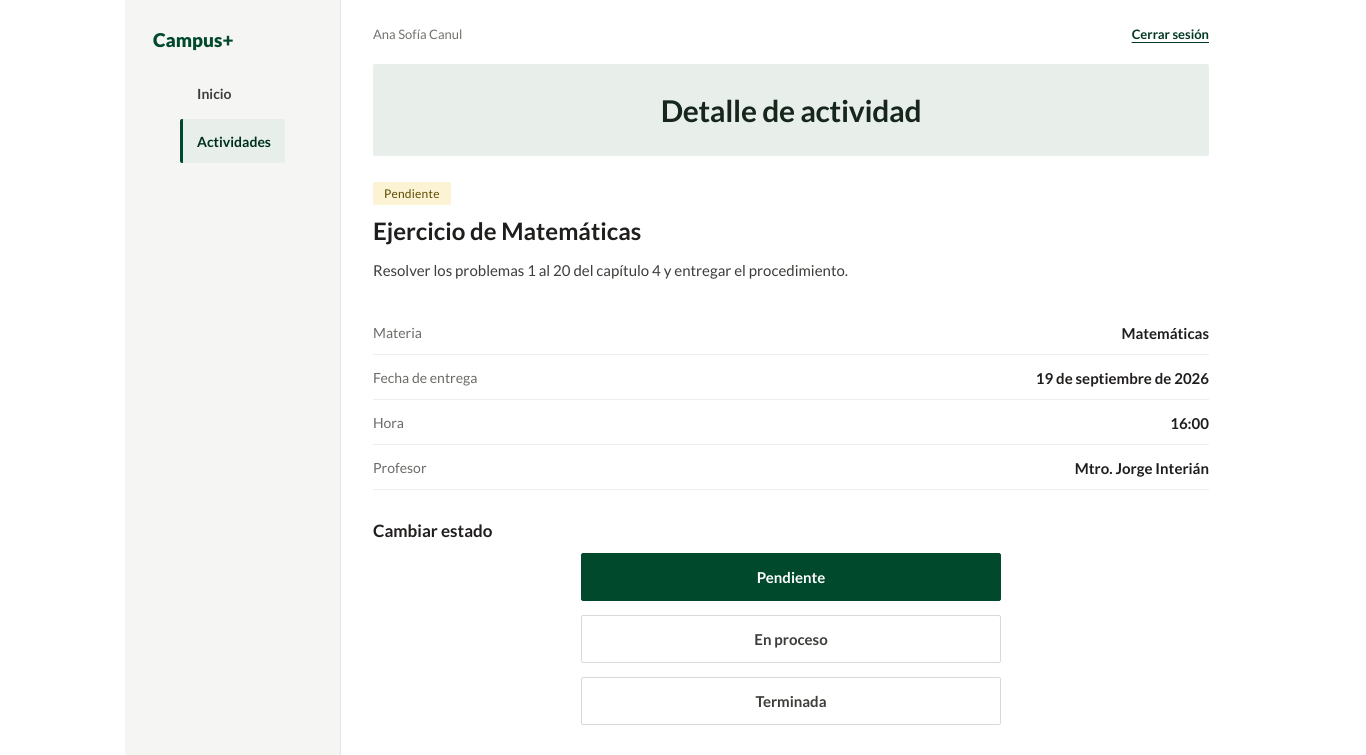
Test case: Manejo de errores › avisa cuando una escritura es rechazada
Click the button "Terminada" at (791, 701), box [581,677,1001,725]
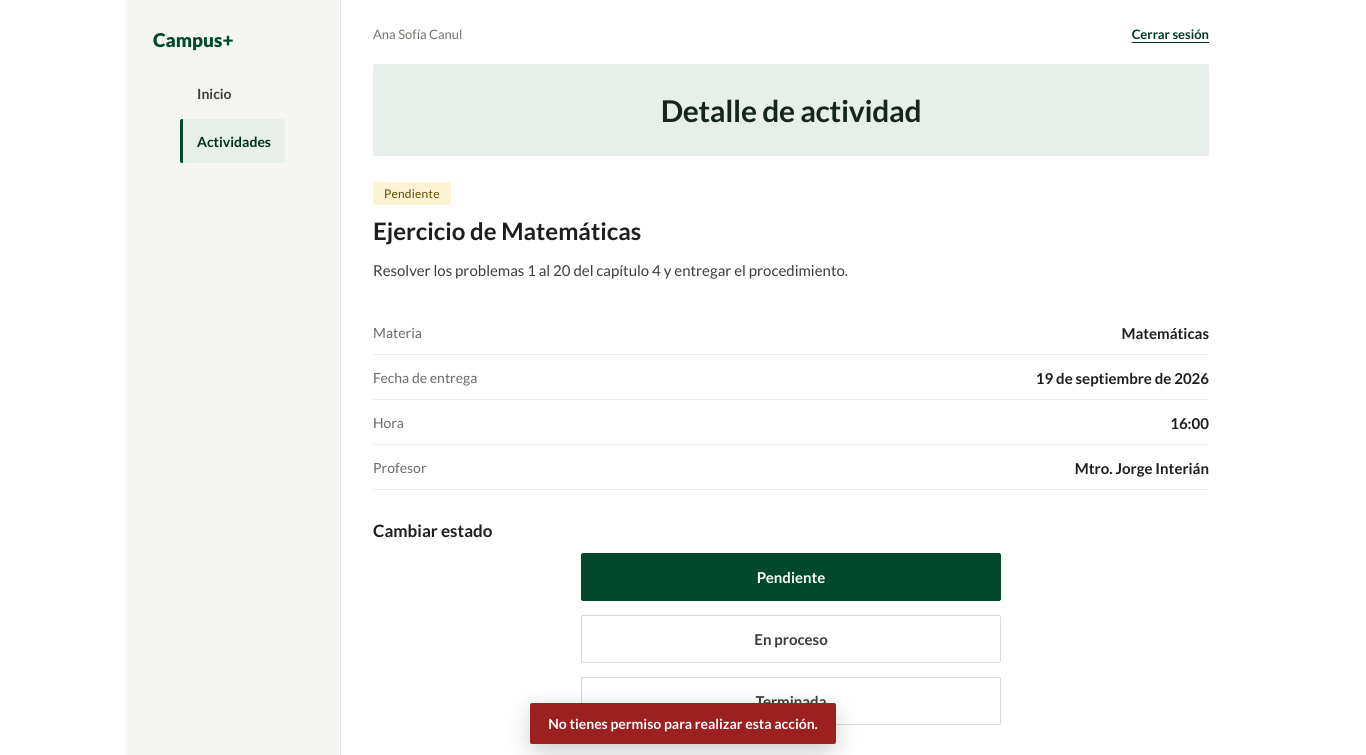
Expected: the text "No tienes permiso para realizar esta acción." is shown, [530,703,836,744]
